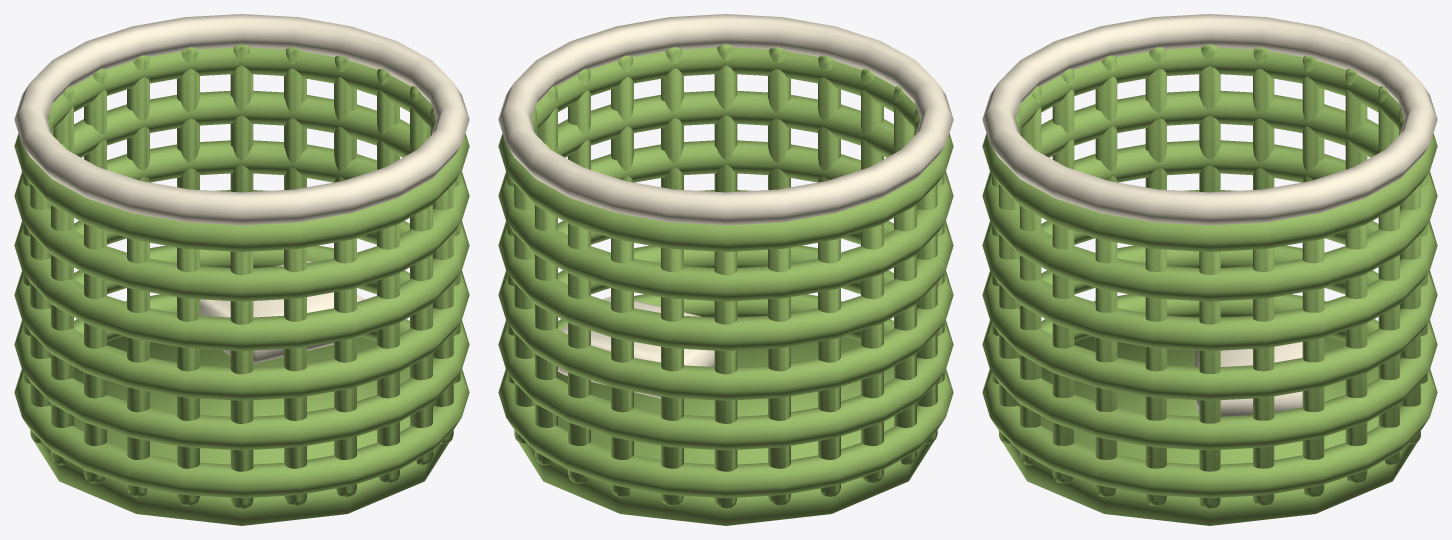
File: rounded-hamper.glb
3 views of the same model, side by side, from view 1: azimuth 30°, elevation 25°; view 2: azimuth 150°, elevation 25°; view 3: azimuth 270°, elevation 25° (orthographic).
Parts seen in each view (by area): view 1: rounded-hamper-green hamper, rounded-hamper-cream accents; view 2: rounded-hamper-green hamper, rounded-hamper-cream accents; view 3: rounded-hamper-green hamper, rounded-hamper-cream accents.
Part boxes in pixels (x1=…): rounded-hamper-green hamper: x1=14, y1=44, x2=469, y2=525; rounded-hamper-cream accents: x1=14, y1=14, x2=469, y2=363; rounded-hamper-green hamper: x1=498, y1=44, x2=953, y2=525; rounded-hamper-cream accents: x1=498, y1=14, x2=953, y2=398; rounded-hamper-green hamper: x1=982, y1=44, x2=1437, y2=525; rounded-hamper-cream accents: x1=982, y1=14, x2=1437, y2=416.
Bounding box in the file's own units: 2.33 × 1.86 × 2.33.
